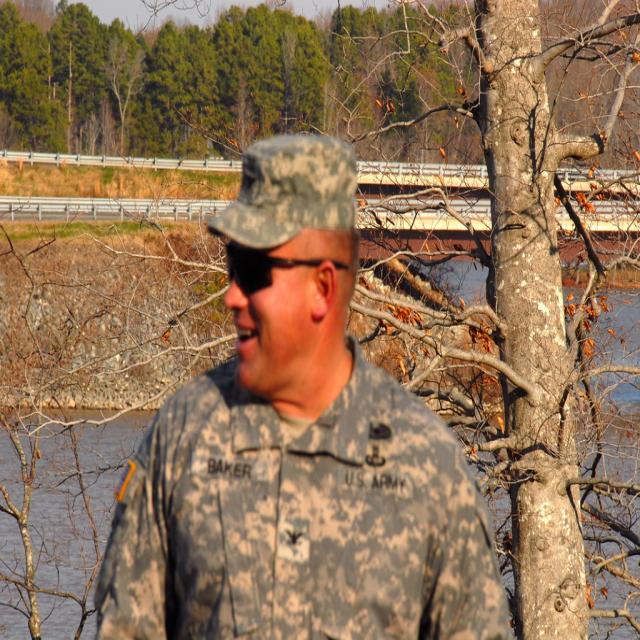Hat: (202, 134, 356, 248)
